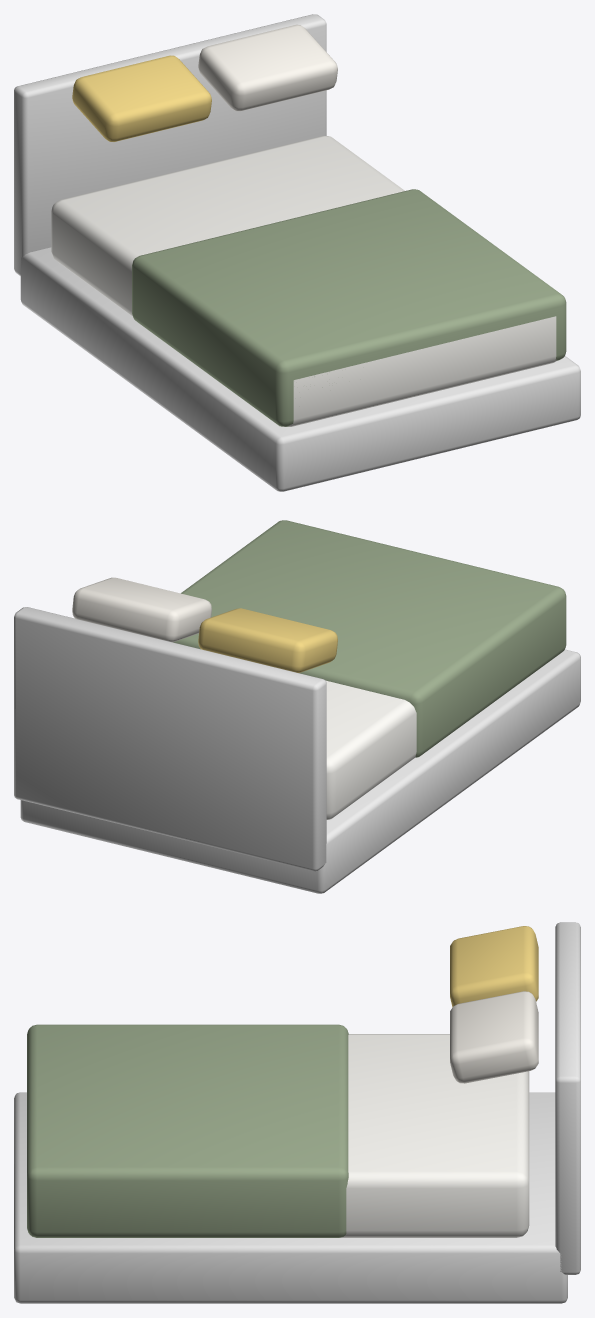
Rendered from Modular_Bed.fbx.
The picture shows the model from 3 angles, top to bottom: view 1: azimuth 30°, elevation 25°; view 2: azimuth 150°, elevation 25°; view 3: azimuth 270°, elevation 25°; orthographic projection. The views are drawn at different scales.
Parts seen in each view (by area): view 1: Modular_Bed; view 2: Modular_Bed; view 3: Modular_Bed.
Boxes of the visible parts, bbox=[...] form: Modular_Bed: bbox=[14, 14, 580, 491]; Modular_Bed: bbox=[14, 520, 580, 893]; Modular_Bed: bbox=[14, 922, 580, 1303].
Size of the model in its own units: 145 by 105 by 220.
